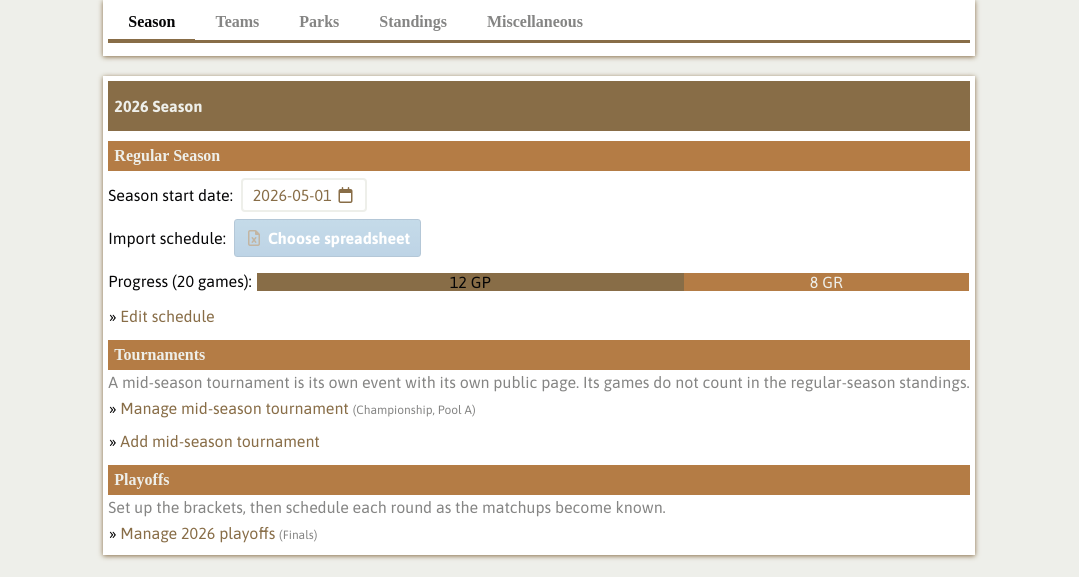
Executive Page › parks tab shows active parks with inactive collapsed
Click the button "Parks".
click(319, 24)  # box [279,5,359,43]
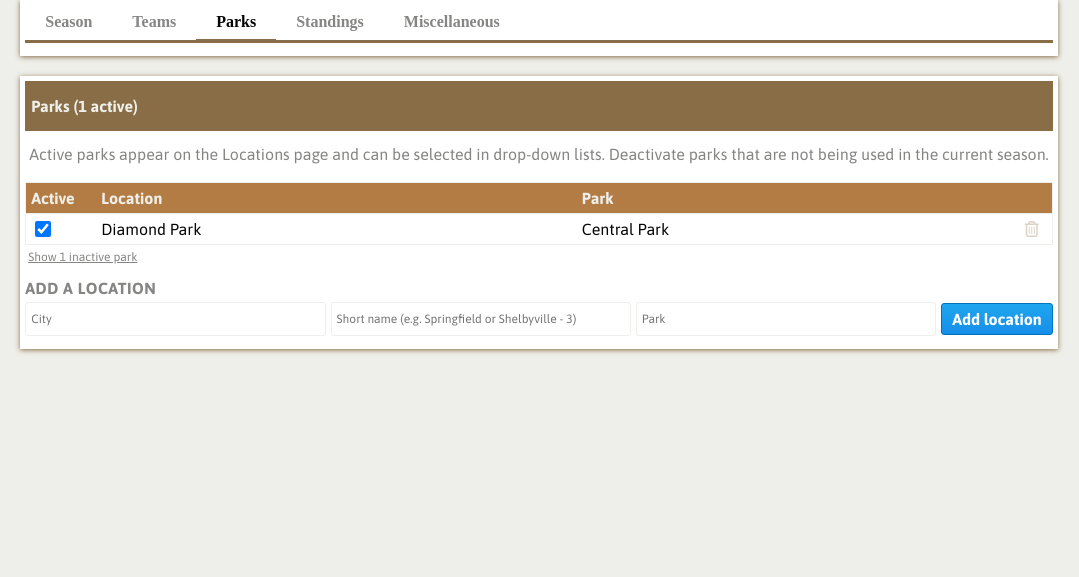
Now the heading "Parks (1 active)" is shown, box [25,81,1053,131]
Now the text "Diamond Park" is shown, box [96,214,577,244]
